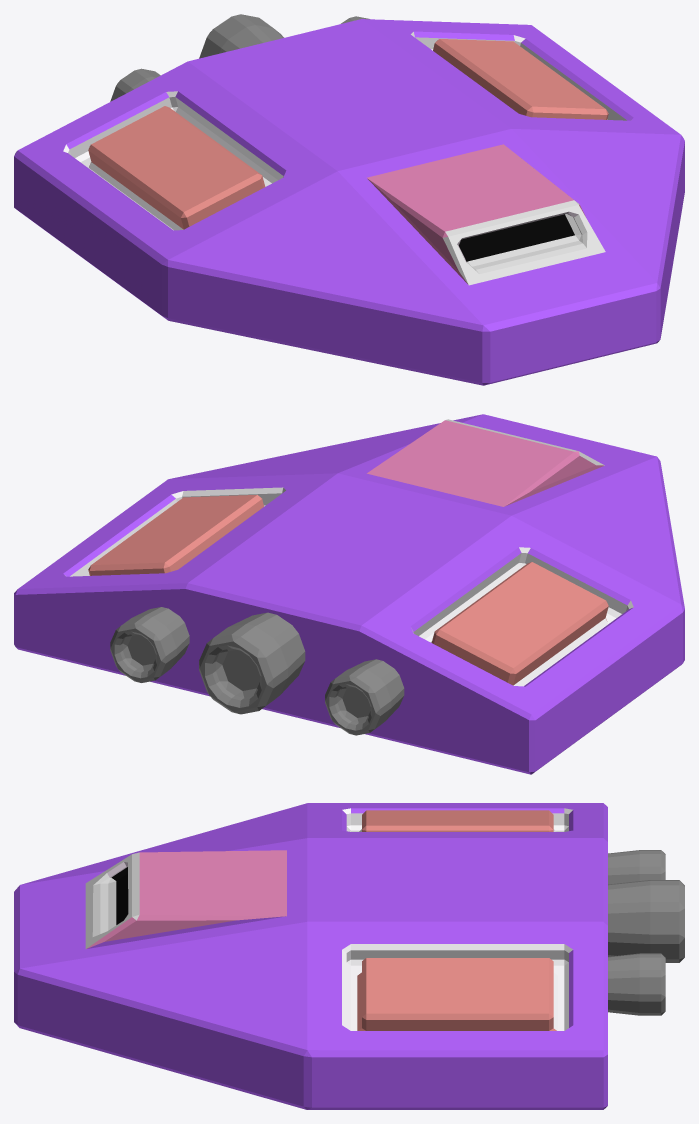
The model's file is spaceship8.fbx.
3 renders of one model, top to bottom at view 1: azimuth 30°, elevation 25°; view 2: azimuth 150°, elevation 25°; view 3: azimuth 270°, elevation 25°, orthographic.
Visible parts, largest first — view 1: Plane, Circle, Circle.001; view 2: Plane, Circle.001, Circle; view 3: Plane, Circle, Circle.001.
Part boxes in pixels (x1,y1,x2,y2): Plane: (14,19,684,385); Circle: (199,14,283,58); Circle.001: (110,16,369,101); Plane: (14,414,684,774); Circle.001: (110,607,404,735); Circle: (199,612,305,714); Plane: (14,803,607,1109); Circle: (608,880,684,962); Circle.001: (608,850,665,1015).
Bounding box in the file's own units: 200 × 39.53 × 226.
